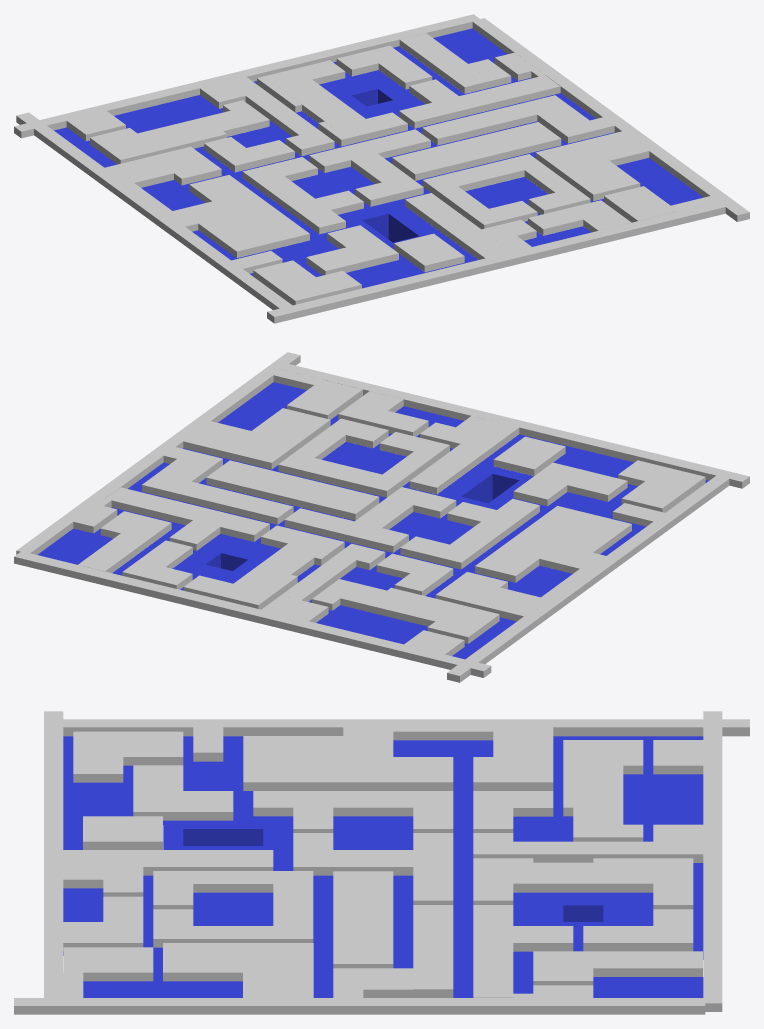
Rendered from stage_wall_2.fbx.
The picture shows the model from 3 angles, top to bottom: view 1: azimuth 30°, elevation 25°; view 2: azimuth 150°, elevation 25°; view 3: azimuth 270°, elevation 25°; orthographic projection. The views are drawn at different scales.
Parts seen in each view (by area): view 1: 平面.002, 立方体.021, 立方体.032, 立方体.023, 立方体, 立方体.040, 立方体.022, 立方体.028, 立方体.033, 立方体.054, 立方体.026, 立方体.038 (+51 smaller); view 2: 平面.002, 立方体.021, 立方体.032, 立方体, 立方体.022, 立方体.023, 立方体.040, 立方体.028, 立方体.026, 立方体.033, 立方体.038, 立方体.054 (+54 smaller); view 3: 平面.002, 立方体.032, 立方体.021, 立方体, 立方体.028, 立方体.051, 立方体.040, 立方体.054, 立方体.022, 立方体.023, 立方体.038, 立方体.017 (+68 smaller).
Part boxes in pixels (x1,y1,x2,y2): 平面.002: (54,28,703,288); 立方体.021: (392,122,561,180); 立方体.032: (189,175,309,249); 立方体.023: (399,75,560,128); 立方体: (535,141,640,201); 立方体.040: (97,117,226,164); 立方体.022: (422,95,570,145); 立方体.028: (242,165,345,234); 立方体.033: (179,201,269,257); 立方体.054: (399,33,491,93); 立方体.026: (309,129,430,172); 立方体.038: (110,146,213,187); 平面.002: (37,382,708,659); 立方体.021: (206,460,379,520); 立方体.032: (475,506,597,582); 立方体: (224,408,330,469); 立方体.022: (142,473,293,524); 立方体.023: (105,487,269,541); 立方体.040: (367,587,499,637); 立方体.028: (434,498,539,569); 立方体.026: (284,508,408,552); 立方体.033: (539,515,631,573); 立方体.038: (435,577,540,621); 立方体.054: (78,516,171,572); 平面.002: (63,736,703,997); 立方体.032: (243,757,453,790); 立方体.021: (333,871,393,968); 立方体: (163,943,313,981); 立方体.028: (253,791,453,816); 立方体.051: (513,862,653,892); 立方体.040: (563,740,623,816); 立方体.054: (533,951,702,976); 立方体.022: (413,905,453,997); 立方体.023: (473,905,513,997); 立方体.038: (493,731,553,790); 立方体.017: (73,731,183,765).
Size of the model in its own units: 218 by 18.08 by 230.
